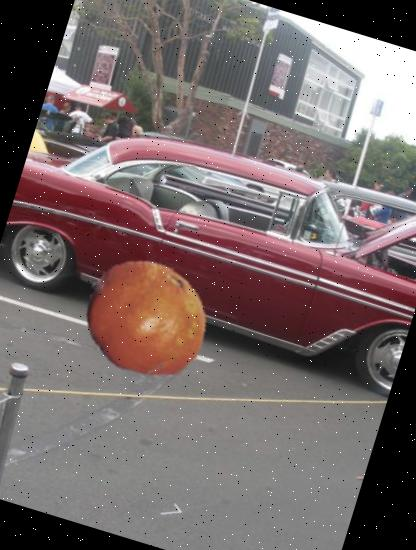Clementine: (64, 238, 226, 400)
